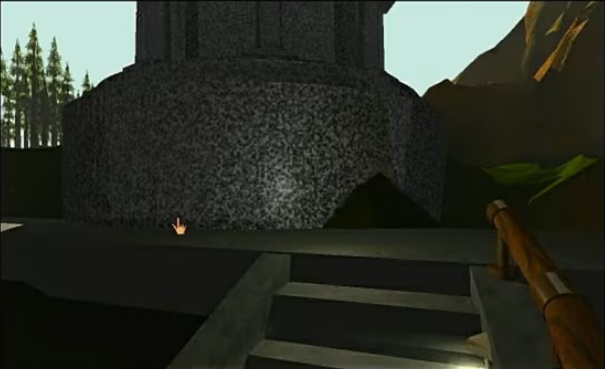Pointer: (169, 213, 191, 238)
